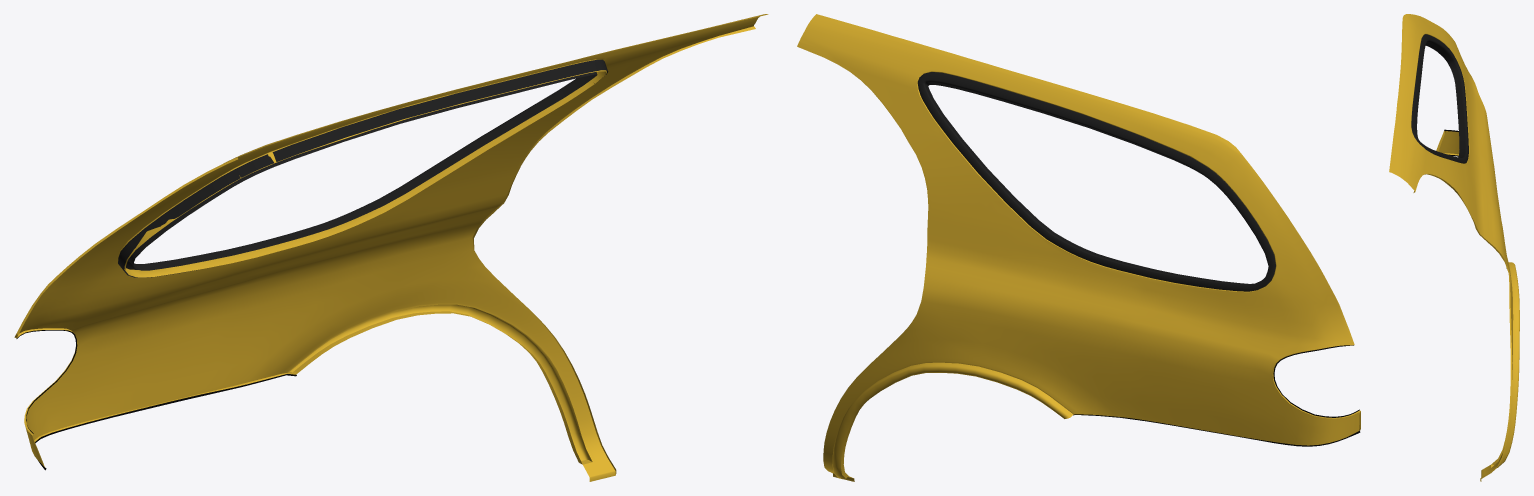
3 renders of one model, left to right at view 1: azimuth 30°, elevation 25°; view 2: azimuth 150°, elevation 25°; view 3: azimuth 270°, elevation 25°, orthographic. The views are drawn at different scales.
Visible parts, largest first — view 1: P353_20_381B_L_1_DaS_P353_20_381B_L, P353_20_381B_L_1_DaS_P353_20_381B_L_E, P353_20_381B_L_P353_20_381B_L_2_D, P353_20_381B_L_P353_20_381B_L_3_D; view 2: P353_20_381B_L_1_DaS_P353_20_381B_L, P353_20_381B_L_P353_20_381B_L_2_D, P353_20_381B_L_1_DaS_P353_20_381B_L_E, P353_20_381B_L_P353_20_381B_L_3_D; view 3: P353_20_381B_L_1_DaS_P353_20_381B_L, P353_20_381B_L_1_DaS_P353_20_381B_L_E, P353_20_381B_L_P353_20_381B_L_2_D.
Part boxes in pixels (x1,y1,x2,y2): P353_20_381B_L_1_DaS_P353_20_381B_L: [19, 14, 768, 476]; P353_20_381B_L_1_DaS_P353_20_381B_L_E: [14, 26, 755, 481]; P353_20_381B_L_P353_20_381B_L_2_D: [118, 59, 608, 277]; P353_20_381B_L_P353_20_381B_L_3_D: [16, 330, 296, 470]; P353_20_381B_L_1_DaS_P353_20_381B_L: [797, 14, 1359, 478]; P353_20_381B_L_P353_20_381B_L_2_D: [917, 72, 1275, 291]; P353_20_381B_L_1_DaS_P353_20_381B_L_E: [799, 47, 1360, 481]; P353_20_381B_L_P353_20_381B_L_3_D: [1073, 345, 1360, 446]; P353_20_381B_L_1_DaS_P353_20_381B_L: [1389, 14, 1513, 476]; P353_20_381B_L_1_DaS_P353_20_381B_L_E: [1411, 33, 1519, 481]; P353_20_381B_L_P353_20_381B_L_2_D: [1411, 34, 1468, 163].
Bounding box in the file's own units: 189 × 125 × 43.56.
